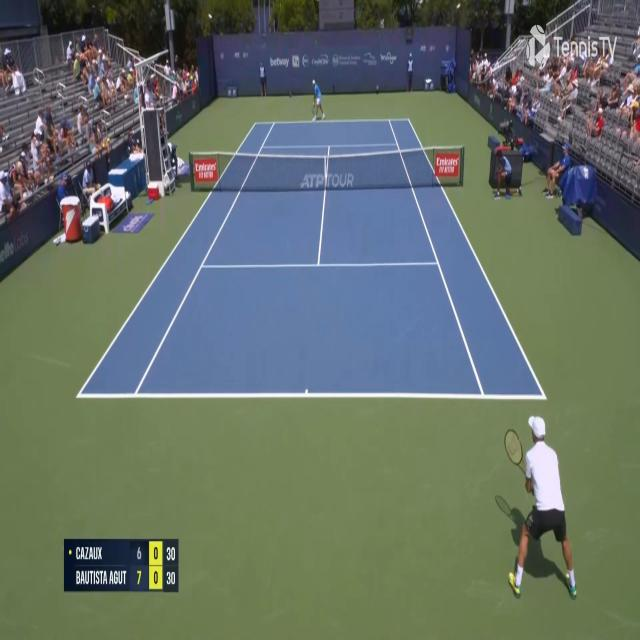tennis-player: (496, 414, 584, 602), (310, 76, 327, 124)
